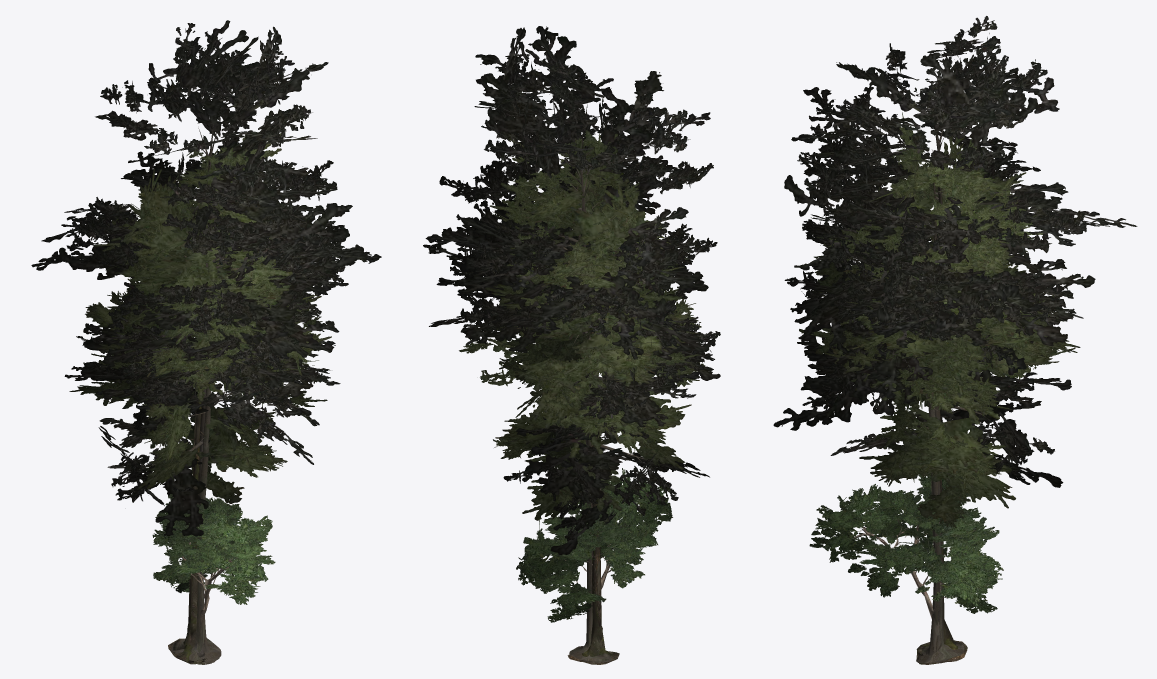
The model's file is trees.glb.
3 views of the same model, side by side, from view 1: azimuth 30°, elevation 25°; view 2: azimuth 150°, elevation 25°; view 3: azimuth 270°, elevation 25° (orthographic). The views are drawn at different scales.
Visible parts, largest first — view 1: pine_c_far, pine_c, fir_b_far, fir_b, broadleaf_small_far, fir_c_far, broadleaf_small, fir_c; view 2: pine_c_far, pine_c, fir_b_far, fir_b, broadleaf_small_far, fir_c_far, fir_c, broadleaf_small; view 3: pine_c_far, pine_c, fir_b_far, fir_b, broadleaf_small_far, fir_c, broadleaf_small, fir_c_far.
Boxes of the visible parts, left/top/right/bottom form: pine_c_far: left=31, top=20, right=381, bottom=659; pine_c: left=65, top=23, right=355, bottom=664; fir_b_far: left=69, top=163, right=331, bottom=663; fir_b: left=85, top=149, right=311, bottom=664; broadleaf_small_far: left=152, top=490, right=275, bottom=599; fir_c_far: left=91, top=132, right=327, bottom=664; broadleaf_small: left=153, top=497, right=267, bottom=622; fir_c: left=107, top=144, right=322, bottom=664; pine_c_far: left=423, top=26, right=720, bottom=662; pine_c: left=439, top=41, right=720, bottom=662; fir_b_far: left=485, top=142, right=700, bottom=664; fir_b: left=493, top=165, right=705, bottom=664; broadleaf_small_far: left=516, top=468, right=672, bottom=622; fir_c_far: left=487, top=130, right=700, bottom=662; fir_c: left=459, top=133, right=687, bottom=662; broadleaf_small: left=523, top=477, right=662, bottom=617; pine_c_far: left=773, top=39, right=1137, bottom=662; pine_c: left=784, top=16, right=1101, bottom=663; fir_b_far: left=824, top=136, right=1080, bottom=664; fir_b: left=829, top=144, right=1063, bottom=664; broadleaf_small_far: left=809, top=474, right=1003, bottom=613; fir_c: left=819, top=126, right=1059, bottom=663; broadleaf_small: left=821, top=478, right=994, bottom=618; fir_c_far: left=799, top=112, right=1047, bottom=662.
Size of the model in its own units: 8.75 by 17.59 by 9.25.
8 materials, 8 textured.
